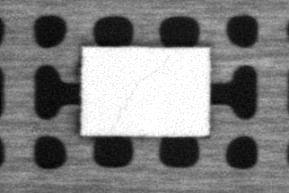DIE_CRACK: (111, 54, 172, 125)
